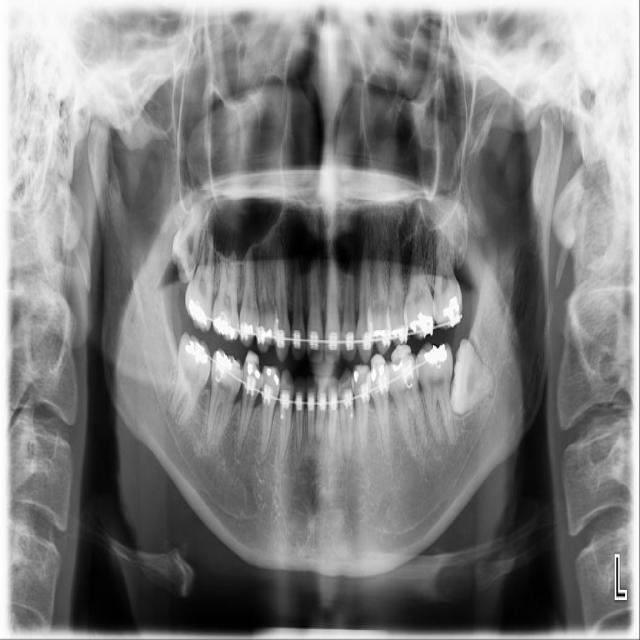3M ESPE Implant: (166, 199, 208, 284)
52: (207, 347, 246, 400), (177, 331, 212, 390), (414, 343, 453, 390), (183, 277, 214, 333), (403, 287, 436, 339), (387, 344, 418, 398), (431, 280, 464, 330), (234, 298, 263, 348), (366, 301, 392, 356), (365, 353, 392, 403), (212, 294, 240, 342), (386, 295, 408, 348), (255, 303, 278, 353), (241, 352, 264, 400), (261, 365, 281, 408), (350, 364, 372, 403)
73: (616, 574, 622, 580)
BioHorizons Implant: (432, 217, 466, 331)
Biomet 3i Implant: (447, 338, 501, 418)
Blue Sky Bio Implant: (414, 341, 456, 447)
Caries: (183, 204, 220, 332)
Implant: (165, 332, 216, 433)
